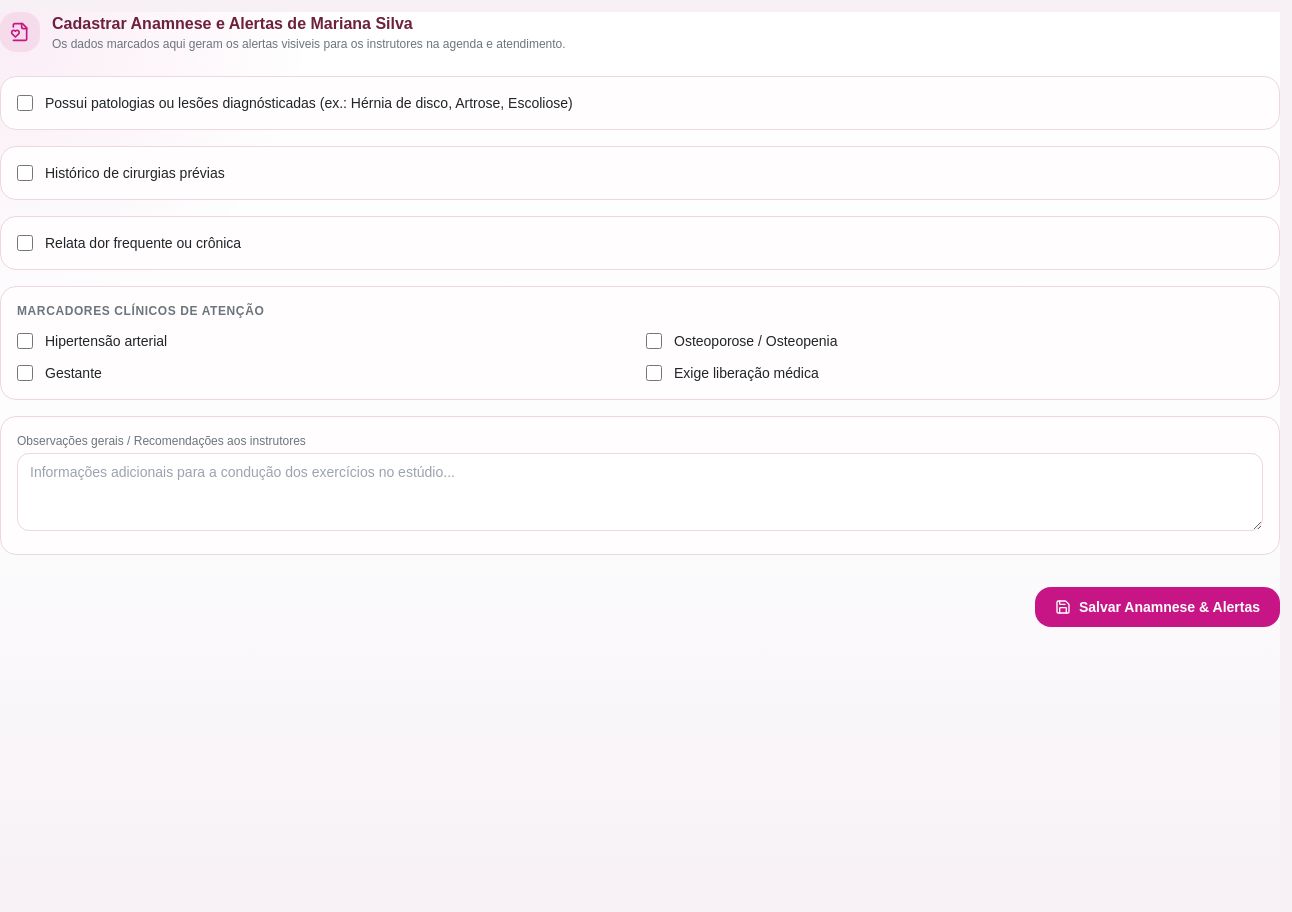
Test: AnamnesisForm component › permite preencher e salvar anamnese com sucesso
This screenshot has width=1292, height=912.
Expected: the heading "Cadastrar Anamnese e Alertas de Mariana Silva" is shown, [52, 15, 413, 32]
Click the checkbox labelled "Possui patologias". click: [25, 103]
box: [17, 95, 33, 111]
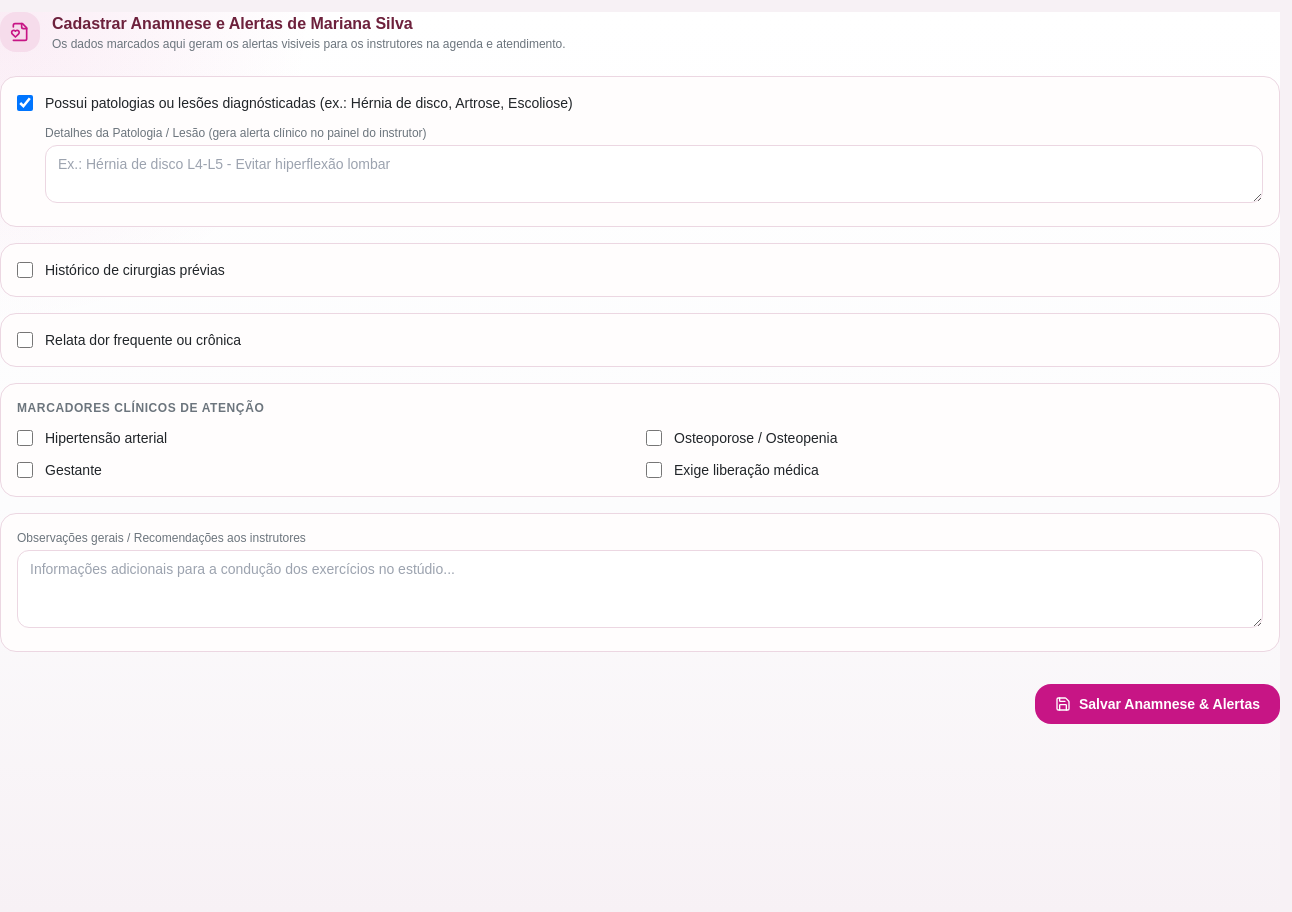
Type "Hérnia de disco L4-L5 - Evitar hiperflexão" into the text box with placeholder "Ex.: Hérnia de disco L4-L5 - Evitar hiperflexão lombar". click: [654, 174]
box: [45, 145, 1263, 203]
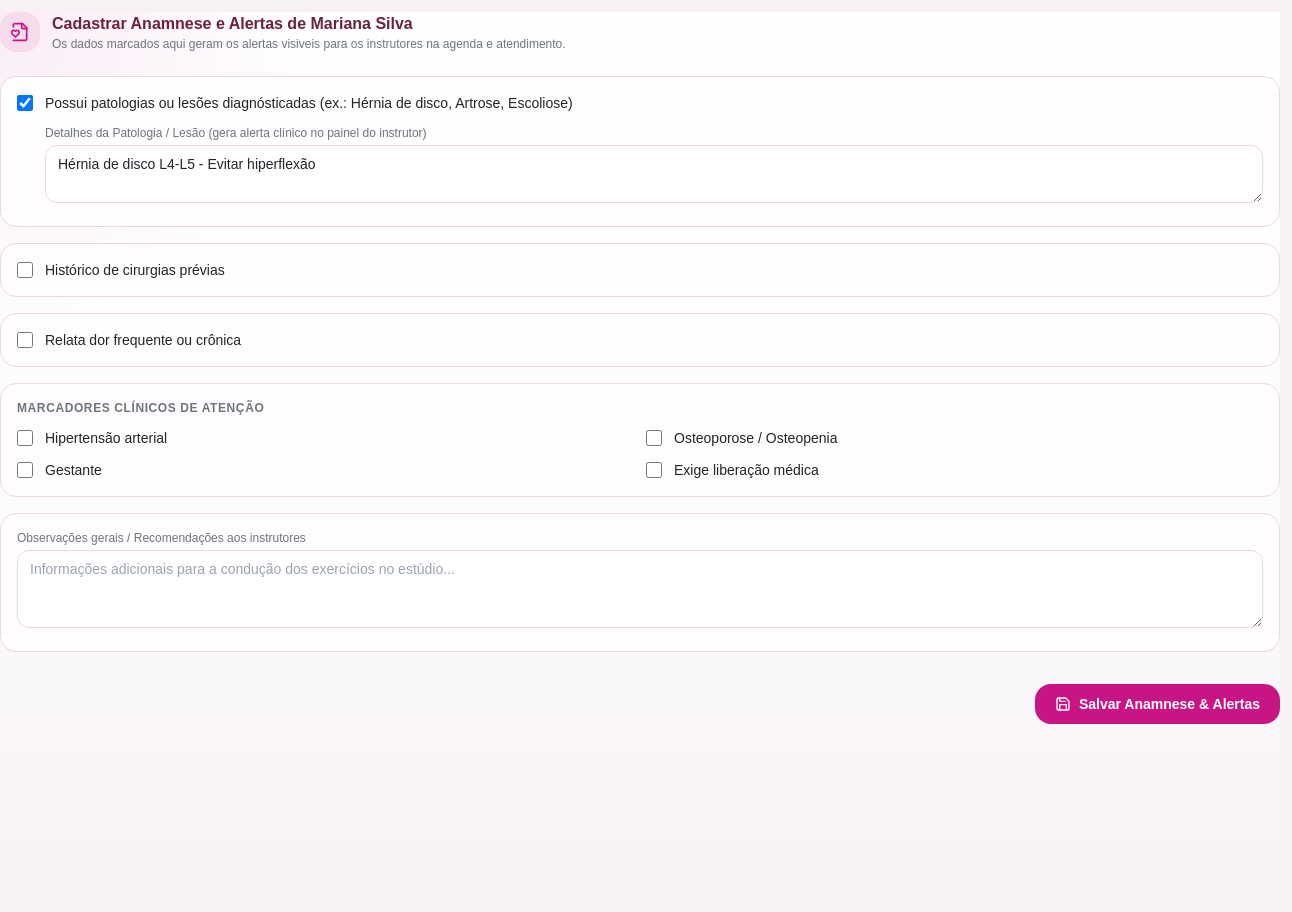
Click the button "Salvar Anamnese & Alertas". click: [1157, 704]
box: [1035, 684, 1280, 724]
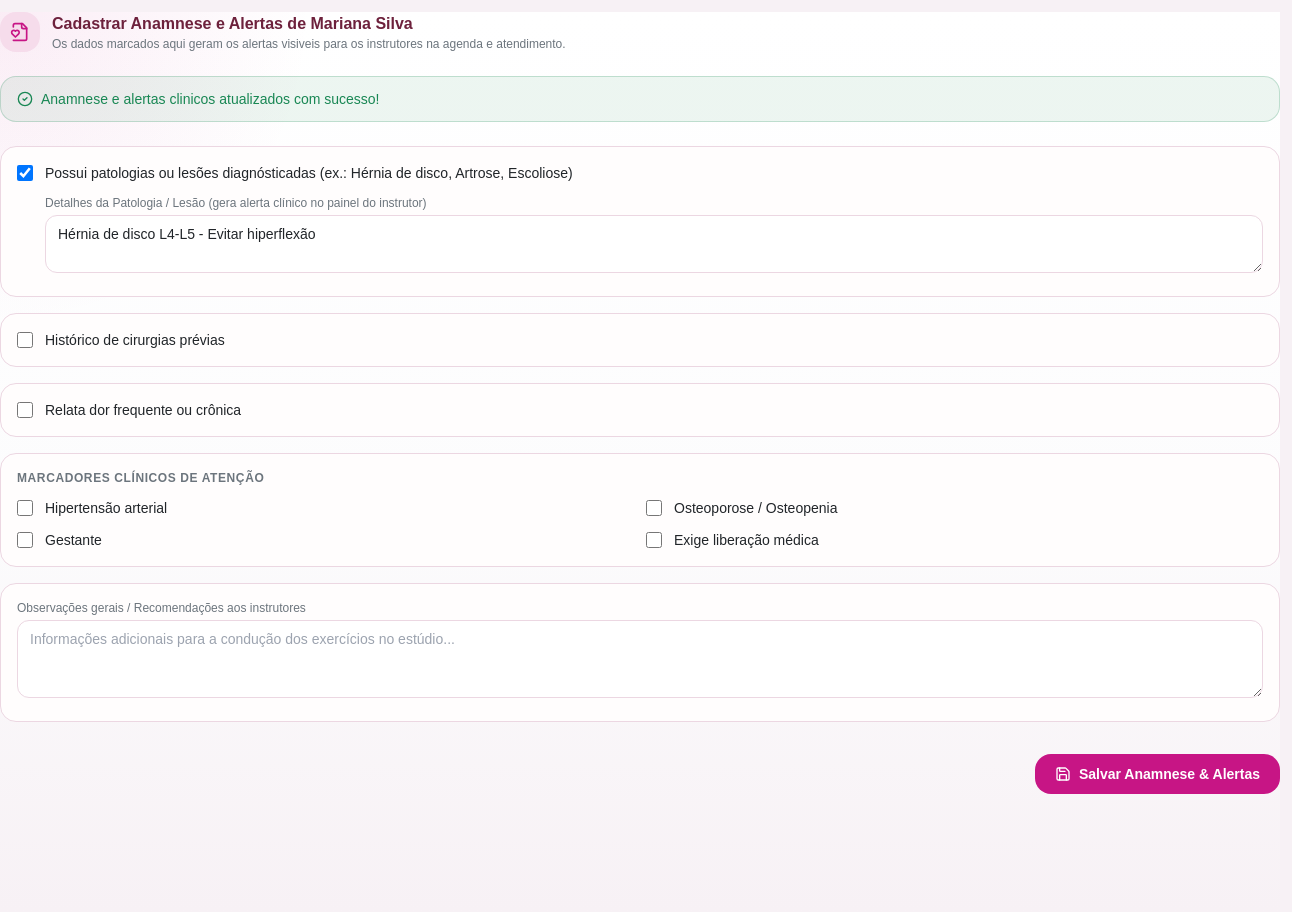
Expected: the message reads "Anamnese e alertas clinicos atualizados com sucesso!", [41, 91, 380, 107]
